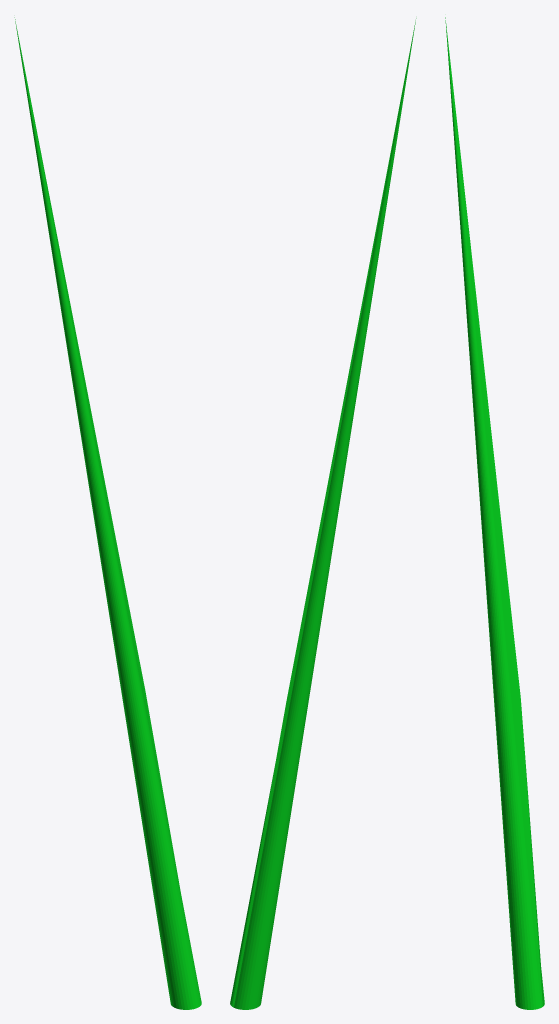
File: plantas.fbx
The picture shows the model from 3 angles, left to right: view 1: azimuth 30°, elevation 25°; view 2: azimuth 210°, elevation 25°; view 3: azimuth 330°, elevation 25°; orthographic projection. The views are drawn at different scales.
Visible parts, largest first — view 1: Cone; view 2: Cone; view 3: Cone.
Part boxes in pixels (<box>): Cone: <box>14,17,201,1009</box>; Cone: <box>230,18,416,1009</box>; Cone: <box>445,17,544,1009</box>.
Size of the model in its own units: 1.45 by 9.46 by 0.8392.
